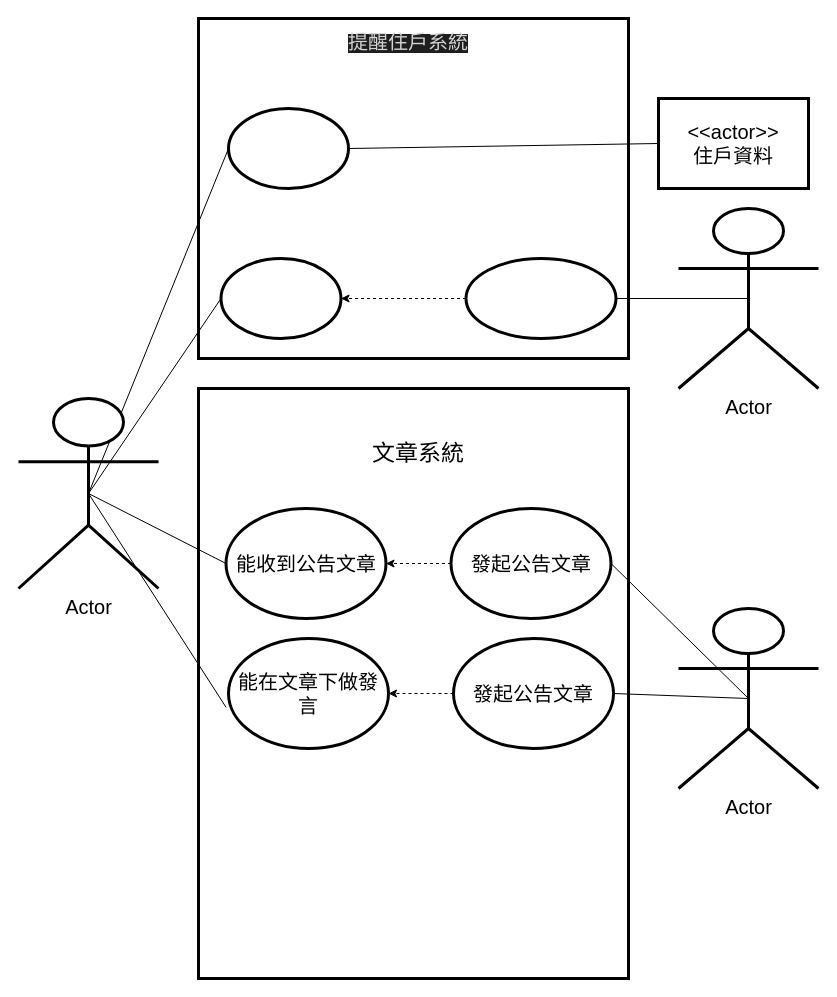
The diagram is 837 pixels wide and 997 high, and some of its shapes have lost their labels. Each missing label, with the box of its shape:
填寫住戶資料: (226, 106, 350, 190)
獲取通知: (219, 256, 342, 340)
輸入收件人: (464, 256, 617, 340)
